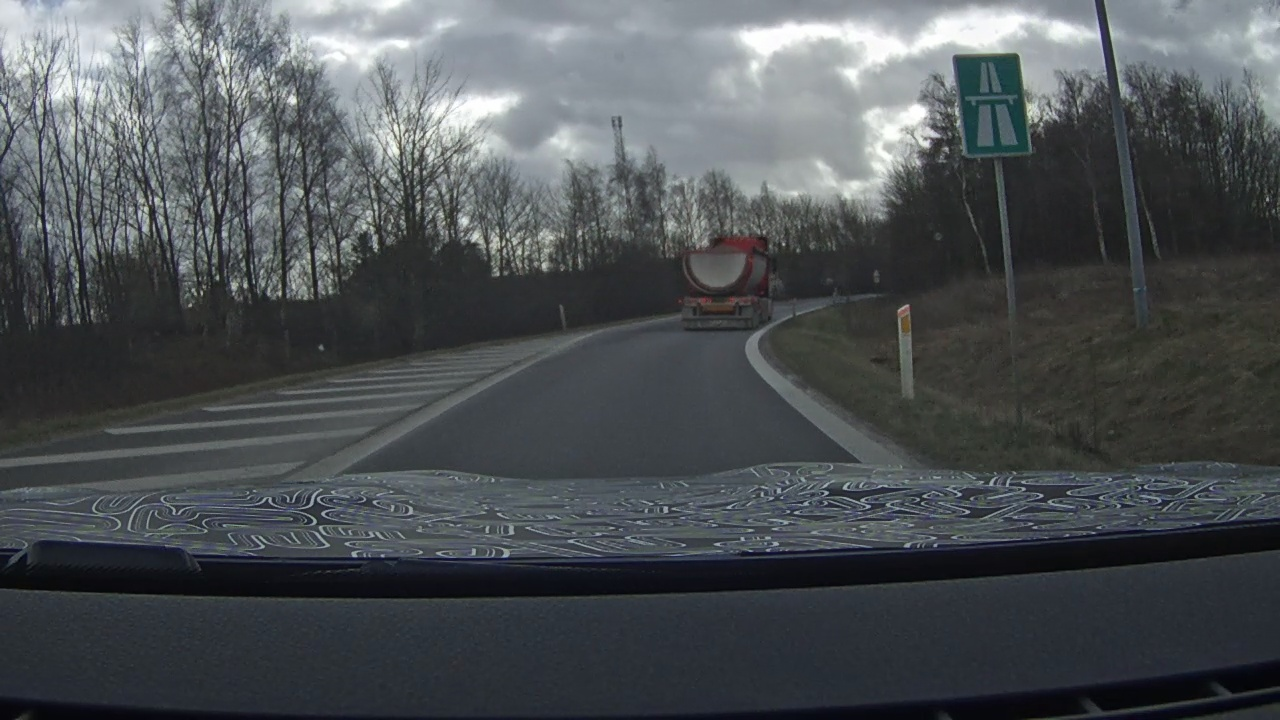Motorway_Begin: (951, 52, 1033, 157)
